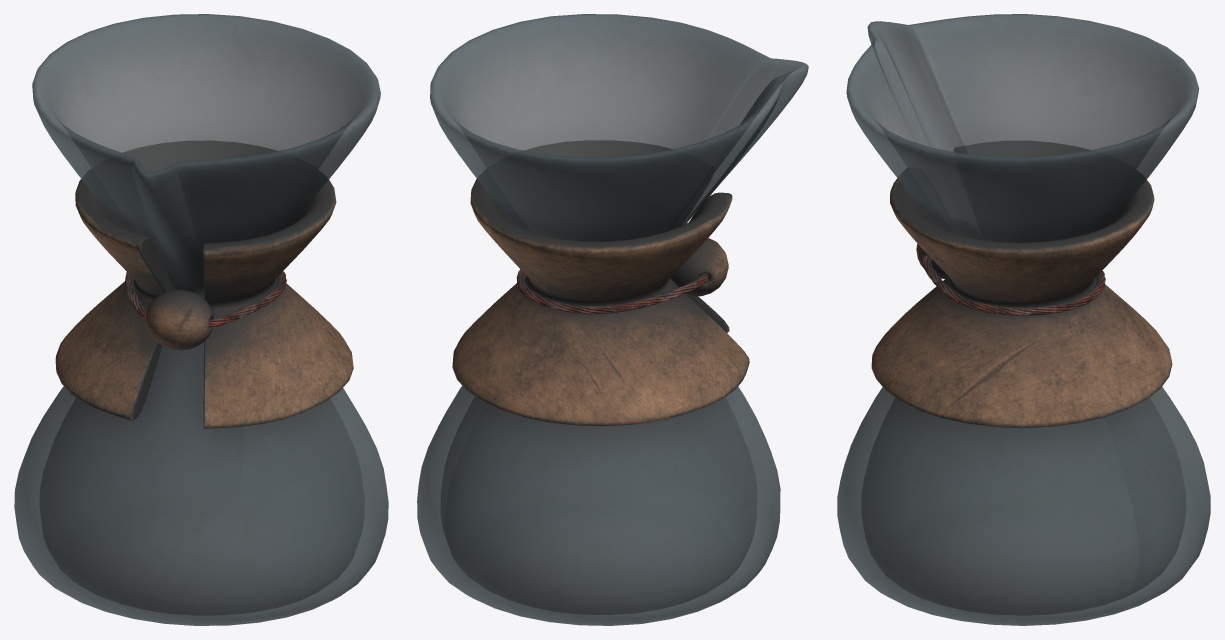
File: chemex_drip_coffee_brewer.glb
3 views of the same model, side by side, from view 1: azimuth 30°, elevation 25°; view 2: azimuth 150°, elevation 25°; view 3: azimuth 270°, elevation 25° (orthographic).
Visible parts, largest first — view 1: vase_low, grip_low, ball_low, wire_low; view 2: vase_low, grip_low, ball_low, wire_low; view 3: vase_low, grip_low, wire_low.
Boxes of the visible parts, x1=… form: vase_low: x1=14, y1=14, x2=388, y2=625; grip_low: x1=55, y1=141, x2=353, y2=428; ball_low: x1=145, y1=289, x2=213, y2=350; wire_low: x1=125, y1=271, x2=286, y2=327; vase_low: x1=417, y1=14, x2=808, y2=625; grip_low: x1=452, y1=141, x2=749, y2=426; ball_low: x1=670, y1=238, x2=728, y2=296; wire_low: x1=516, y1=269, x2=708, y2=314; vase_low: x1=837, y1=14, x2=1210, y2=625; grip_low: x1=871, y1=141, x2=1172, y2=427; wire_low: x1=922, y1=254, x2=1105, y2=315.
Size of the model in its own units: 0.1664 by 0.2367 by 0.1683.
Materials: 2 (2 with a texture image).
